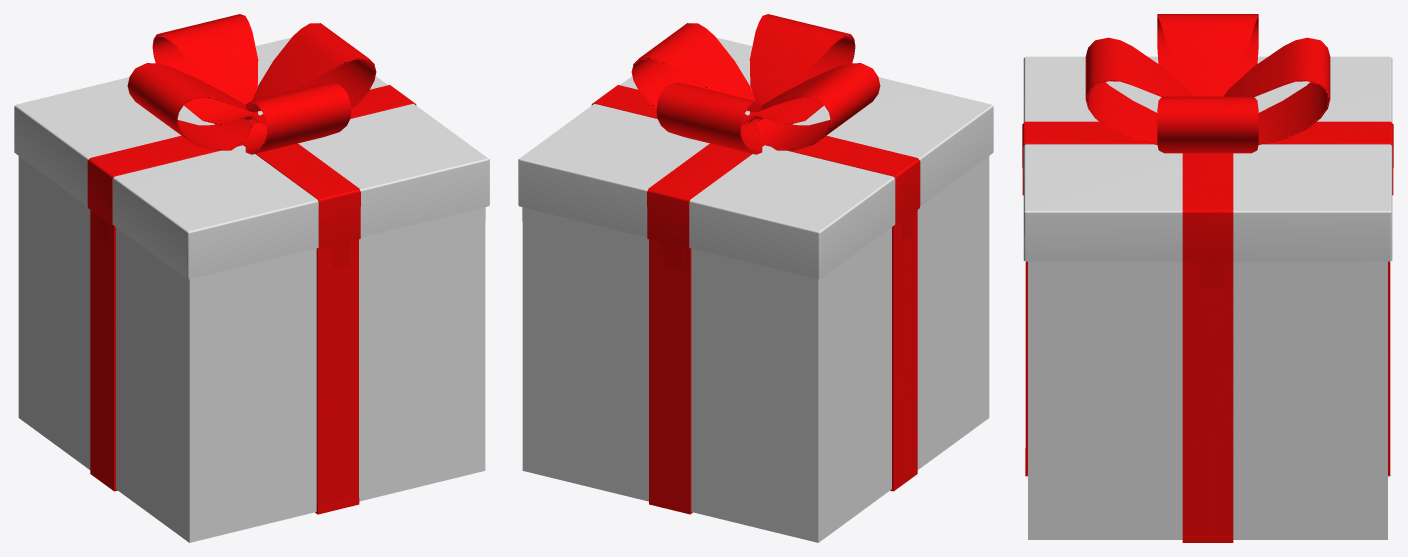
The picture shows the model from 3 angles, left to right: view 1: azimuth 30°, elevation 25°; view 2: azimuth 150°, elevation 25°; view 3: azimuth 270°, elevation 25°; orthographic projection. The views are drawn at different scales.
Parts seen in each view (by area): view 1: SK_GiftBox.001, Side.003, Side.004, Floor.007, Side.002; view 2: SK_GiftBox.001, Side.001, Side.004, Floor.007, Side.003; view 3: Side.002, SK_GiftBox.001, Floor.007, Side.001, Side.003.
Part boxes in pixels (box(x1,y1,x2,y2)): SK_GiftBox.001: box(14, 14, 489, 279); Side.003: box(187, 208, 485, 537); Side.004: box(18, 156, 193, 541); Floor.007: box(18, 414, 485, 542); Side.002: box(481, 207, 485, 471); SK_GiftBox.001: box(518, 14, 993, 279); Side.001: box(522, 207, 818, 542); Side.004: box(818, 158, 986, 537); Floor.007: box(522, 414, 988, 542); Side.003: box(986, 156, 989, 418); Side.002: box(1028, 261, 1387, 535); SK_GiftBox.001: box(1022, 14, 1393, 262); Floor.007: box(1025, 448, 1387, 542); Side.001: box(1382, 261, 1390, 534); Side.003: box(1025, 261, 1033, 534).
Size of the model in its own units: 3.97 by 4.81 by 3.97.
12 materials, 6 textured.
